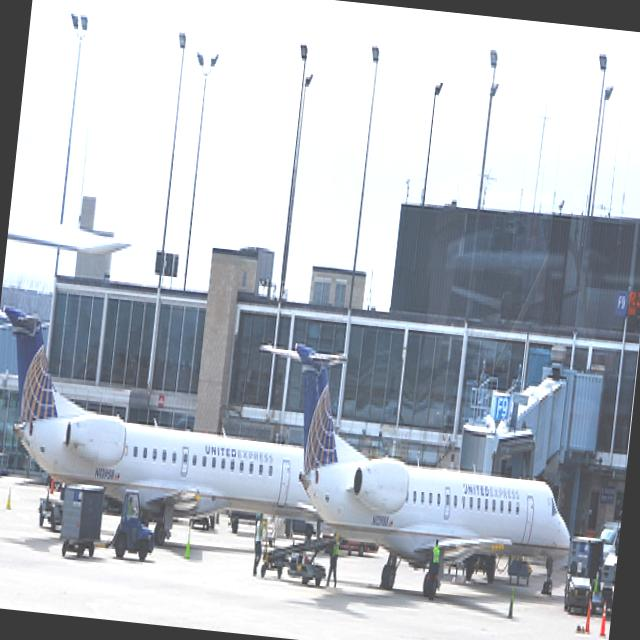Vehicle: (96, 487, 158, 562), (56, 483, 106, 562), (563, 561, 594, 616), (594, 518, 620, 562), (590, 576, 615, 614), (600, 549, 618, 591)
